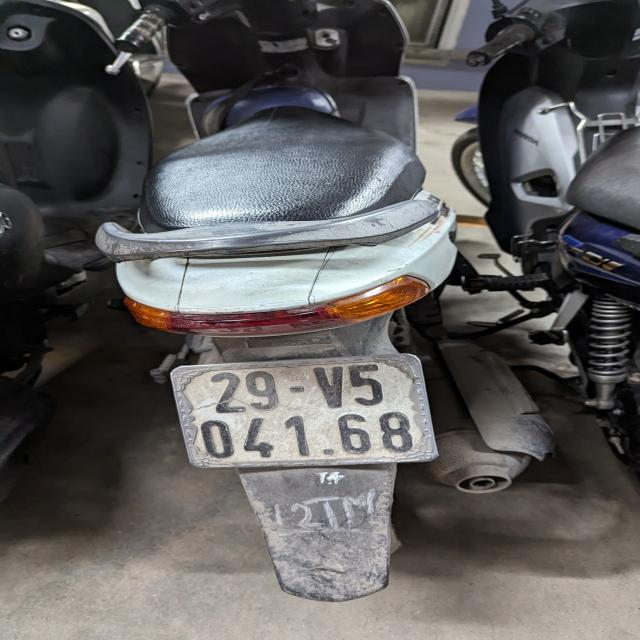license: (169, 351, 439, 469)
